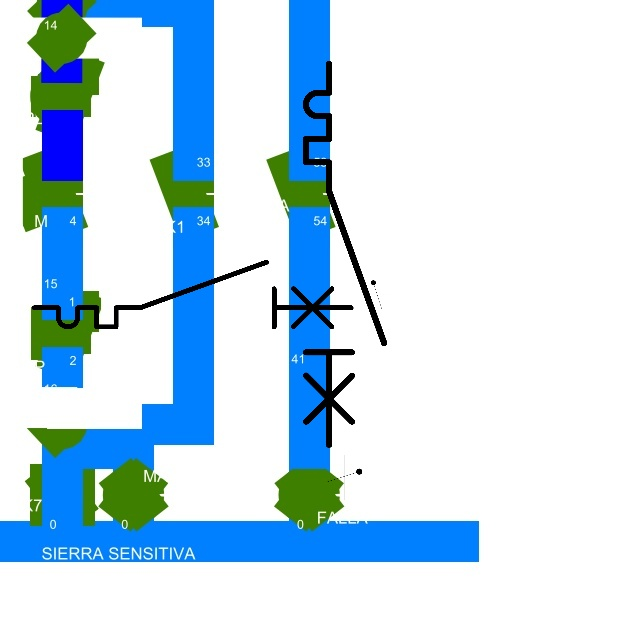interruptor_termomagnetico: (296, 54, 394, 454), (26, 254, 359, 335)
